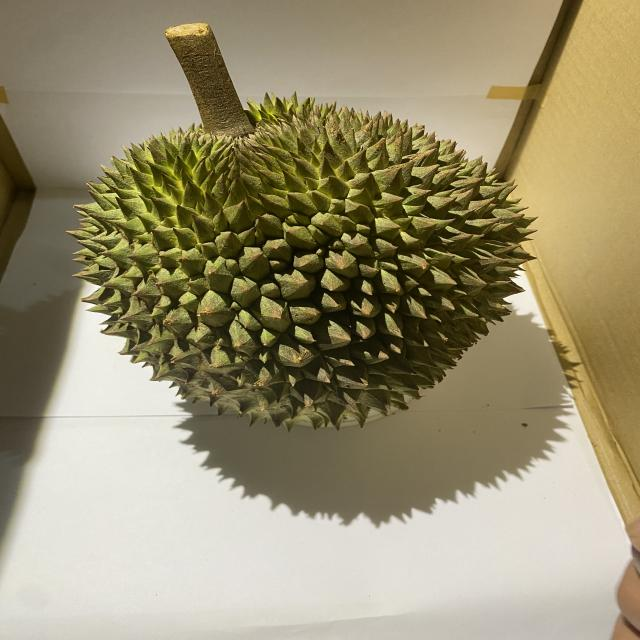immature: (60, 92, 544, 438)
